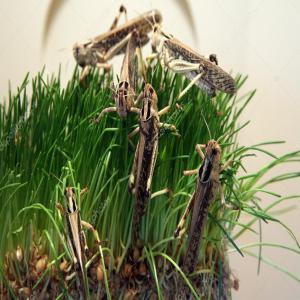locust: (175, 137, 234, 276), (127, 79, 169, 237), (69, 5, 168, 70), (58, 174, 91, 300)
